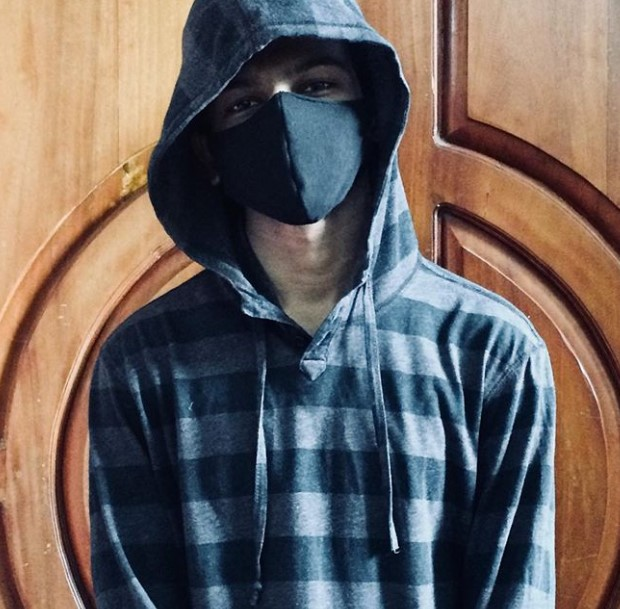face_with_mask: (148, 5, 410, 239)
